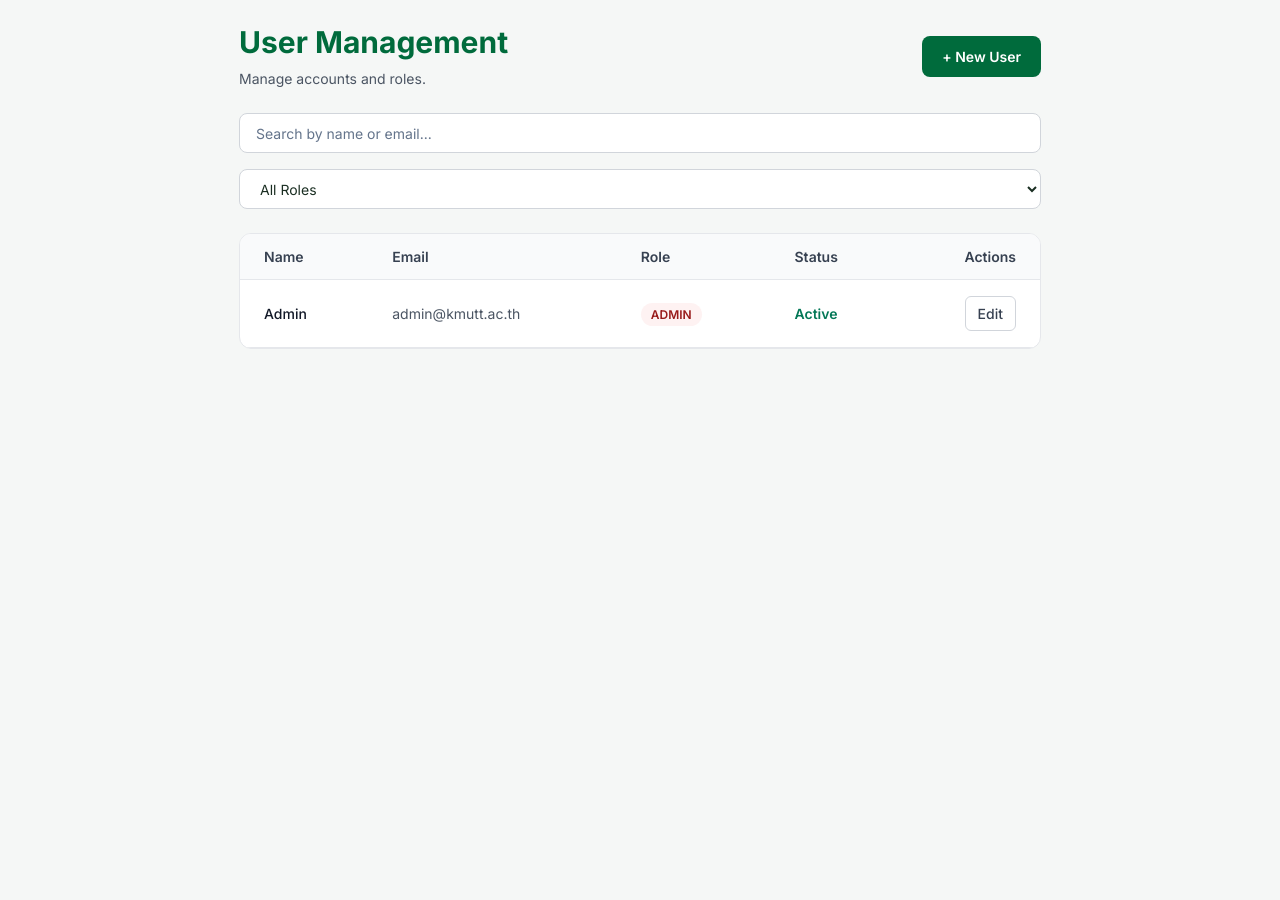
Test: Lab 3 admin user management › loads users and opens the create-user form
This screenshot has width=1280, height=900.
Expected: the text "Admin" is shown, [240,280,368,348]
Click the button "+ New User" at (982, 56), box [922,36,1041,77]
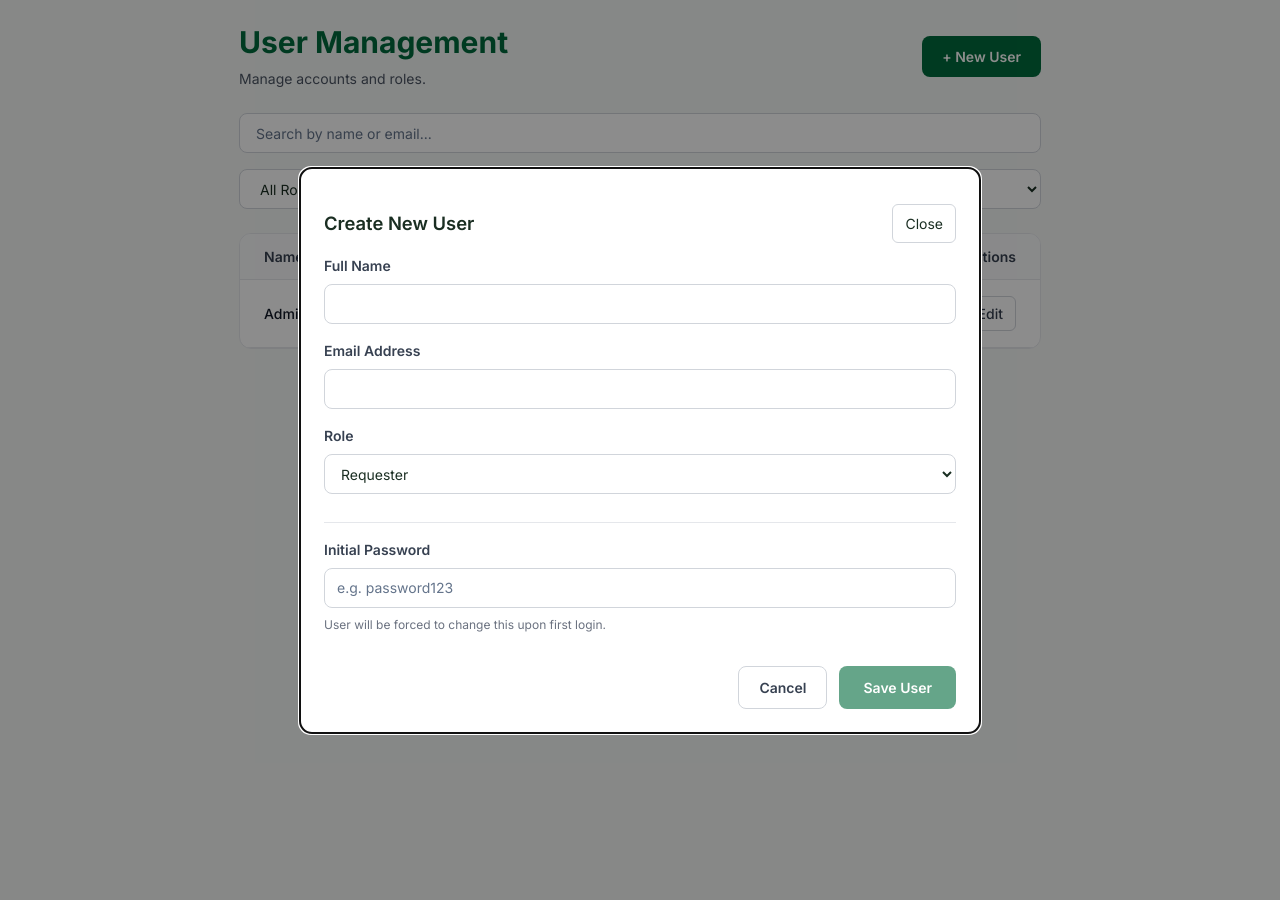
Now the heading "Create New User" is shown, box [324,212,474,234]
Now the field with placeholder "e.g. password123" is shown, box [324,568,956,608]
